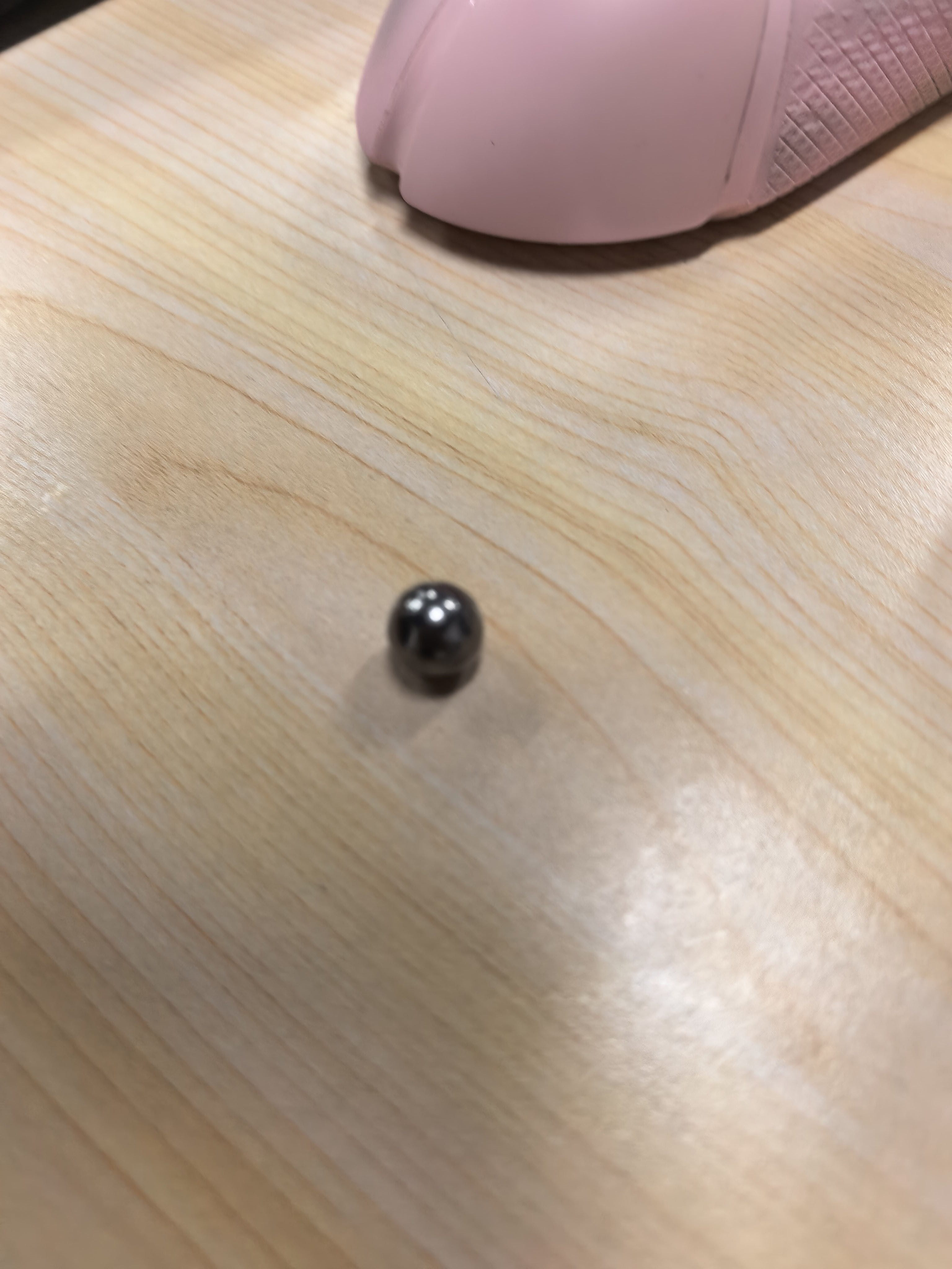ball: (384, 580, 487, 691)
